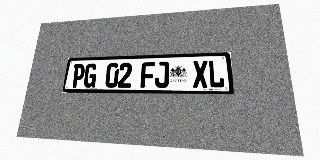0: (105, 63, 119, 88)
2: (118, 62, 132, 88)
F: (140, 62, 155, 88)
G: (83, 63, 98, 88)
J: (155, 61, 169, 88)
L: (208, 60, 225, 88)
P: (71, 64, 86, 88)
X: (192, 60, 208, 88)
